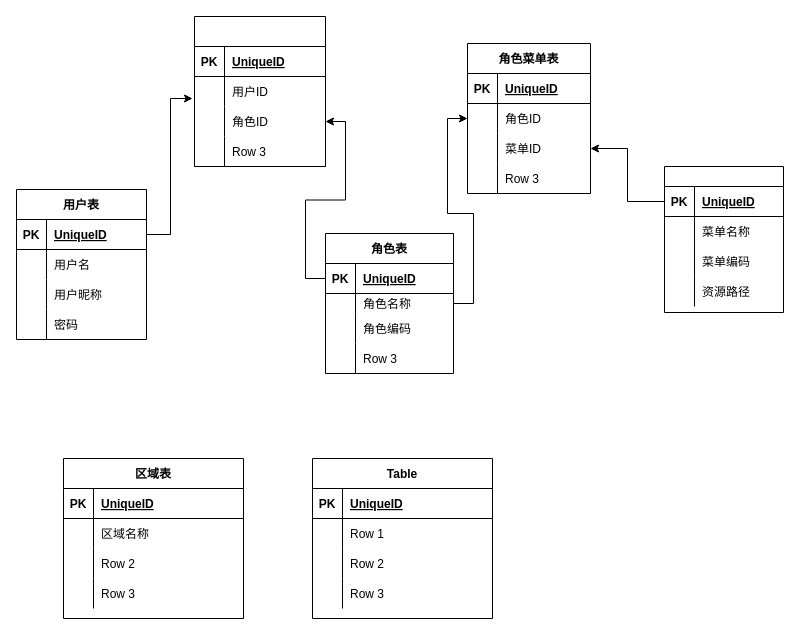
Image size: 800x635. Some labels were removed from this diagram. The box of each missing label's shape, as (x1, y1, x2, y2) in pixels:
用户角色表: (194, 16, 326, 166)
菜单表: (664, 166, 784, 312)
